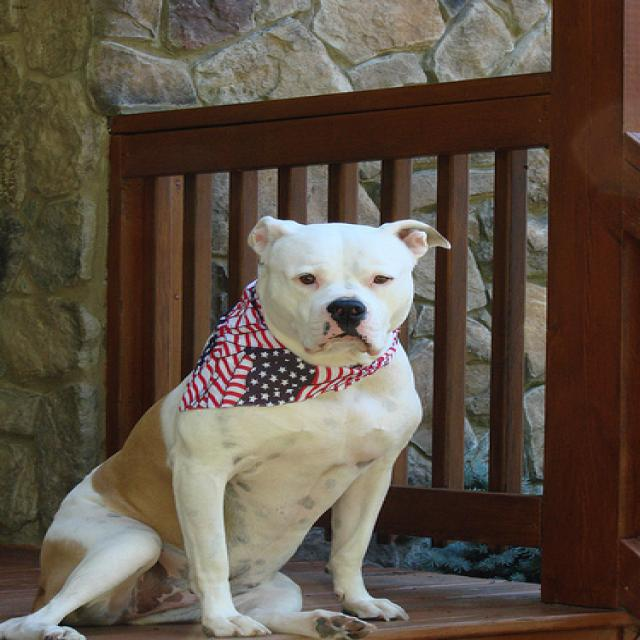dog-american_bulldog: (2, 207, 468, 637)
